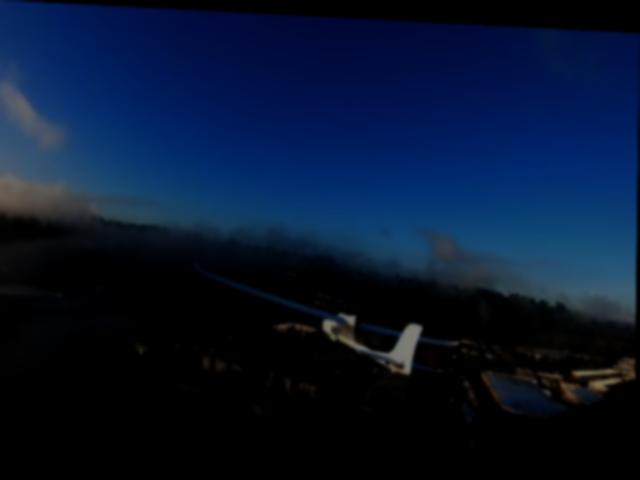uav: (183, 248, 471, 405)
